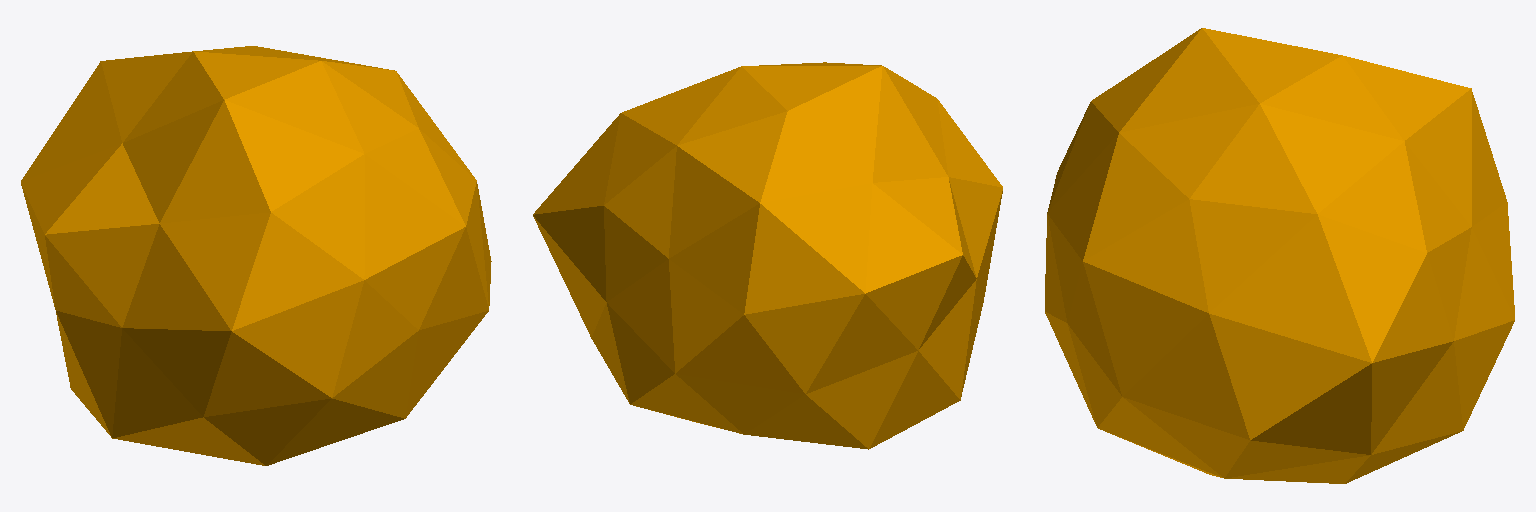
URDF robot description (i385):
<?xml version="1.0"?>
<robot name="i385">
  <link name="link">
    <contact>
      <lateral_friction value="0.6"/>
    </contact>
    <inertial>
      <mass value = "0.9440843919372945"/>
      <inertia ixx="0.0007202101036257685" ixy="-3.136315952406392e-20" ixz="-1.3553365365756192e-19" iyy="0.0007552277288579777" iyz="2.6210640459396274e-19" izz="0.0008204530166266833" />
    </inertial>
    <visual name="visual">
      <geometry>
        <mesh filename="i385.obj"/>
      </geometry>
    </visual>
    <collision name="collision">
      <geometry>
        <mesh filename="i385.obj"/>
      </geometry>
    </collision>
  </link>
</robot>

--- Facts derived from the render (not from the file) ---
The picture shows the robot from 3 angles, left to right: view 1: azimuth 30°, elevation 25°; view 2: azimuth 150°, elevation 25°; view 3: azimuth 270°, elevation 25°; orthographic projection.
Robot: i385 — 1 links, 0 joints (none); root link link; default pose: every joint at zero.
Visible links, largest first — view 1: link; view 2: link; view 3: link.
Link boxes in pixels (left/top/right/bottom): link: left=21, top=46, right=491, bottom=465; link: left=533, top=62, right=1002, bottom=449; link: left=1045, top=28, right=1514, bottom=483.
Bounding box of the posed robot: 0.102 × 0.092 × 0.0847 m (x, y, z).
1 mesh visuals loaded from 1 distinct referenced files (1 OBJ).
